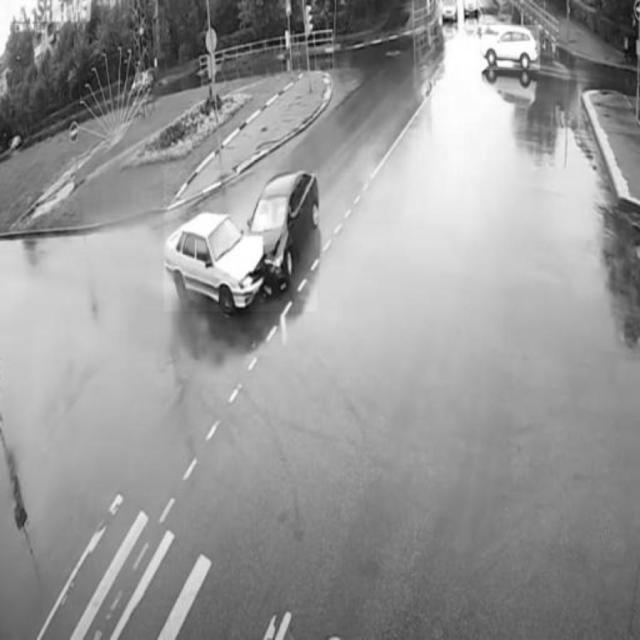accident: (164, 170, 318, 311)
vehicle: (481, 25, 539, 70)
